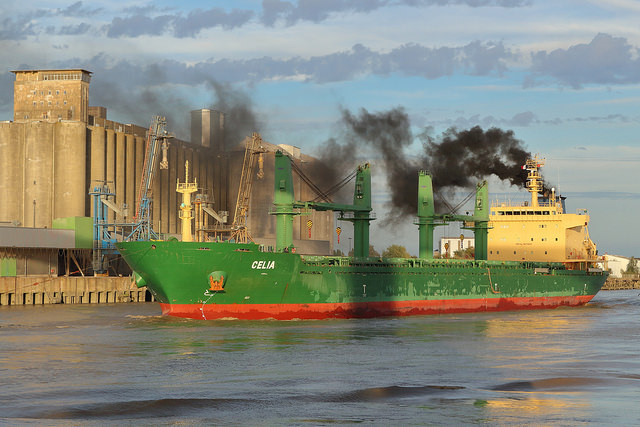bulk carrier: (113, 148, 610, 319)
